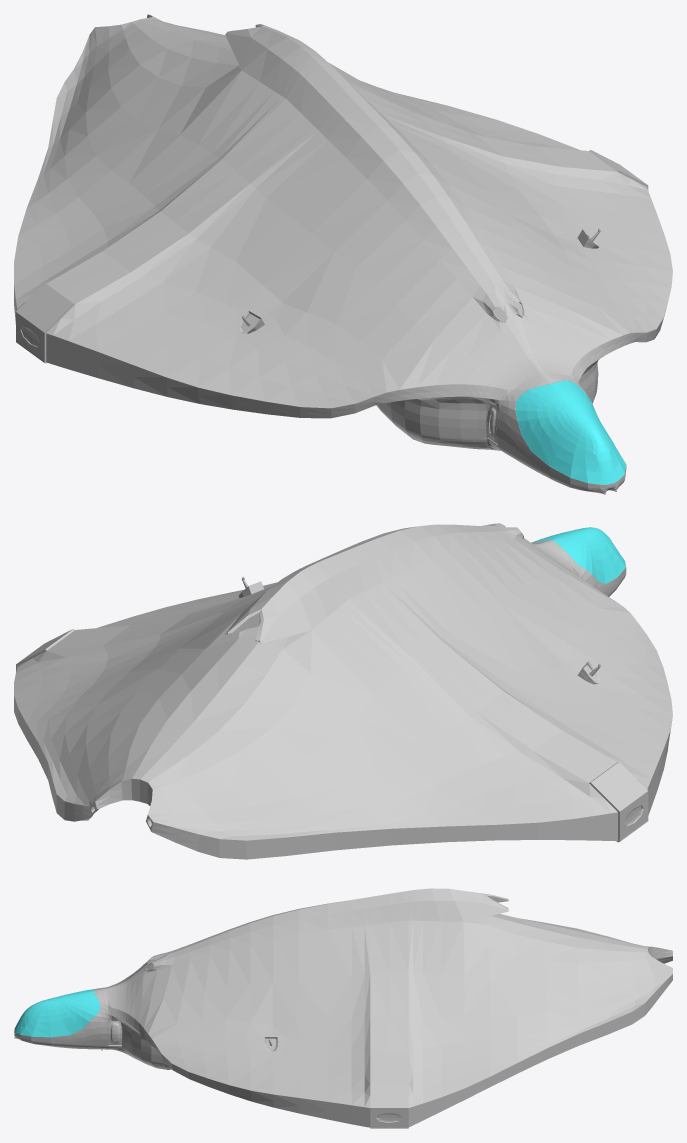
Rendered from MKinc Gunship.obj.
The picture shows the model from 3 angles, top to bottom: view 1: azimuth 30°, elevation 25°; view 2: azimuth 150°, elevation 25°; view 3: azimuth 270°, elevation 25°; orthographic projection. The views are drawn at different scales.
Visible parts, largest first — view 1: Gunship_Plane, GunshipGlass_Plane.001; view 2: Gunship_Plane, GunshipGlass_Plane.001; view 3: Gunship_Plane, GunshipGlass_Plane.001.
Boxes of the visible parts, <box> form: Gunship_Plane: <box>14,14,672,494</box>; GunshipGlass_Plane.001: <box>515,380,625,484</box>; Gunship_Plane: <box>14,523,672,859</box>; GunshipGlass_Plane.001: <box>531,527,625,583</box>; Gunship_Plane: <box>14,888,672,1128</box>; GunshipGlass_Plane.001: <box>14,988,100,1037</box>.
Bounding box in the file's own units: 35.46 × 13.42 × 49.78.
